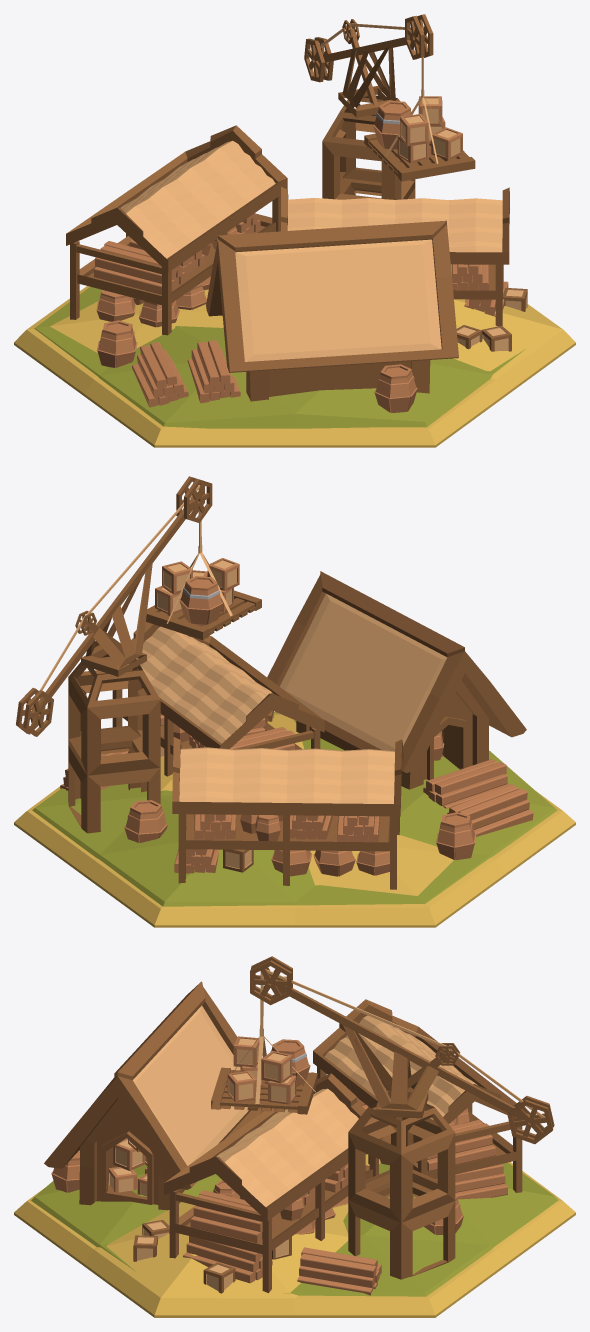
Rendered from storehouse.glb.
The picture shows the model from 3 angles, top to bottom: view 1: azimuth 30°, elevation 25°; view 2: azimuth 150°, elevation 25°; view 3: azimuth 270°, elevation 25°; orthographic projection.
Parts seen in each view (by area): view 1: building, land, animation, big_details; view 2: building, land, animation, big_details; view 3: building, land, animation, big_details.
Boxes of the visible parts, x1,y1,x2,y2 form: building: (66, 95, 509, 401); land: (14, 286, 575, 447); animation: (304, 14, 475, 181); big_details: (96, 276, 527, 412); building: (68, 571, 526, 889); land: (14, 712, 575, 927); animation: (16, 476, 261, 736); big_details: (60, 710, 533, 876); building: (44, 981, 522, 1293); land: (14, 1154, 575, 1317); animation: (211, 956, 554, 1144); big_details: (51, 1072, 507, 1295).
Bounding box in the file's own units: 1.73 × 1.22 × 2.
